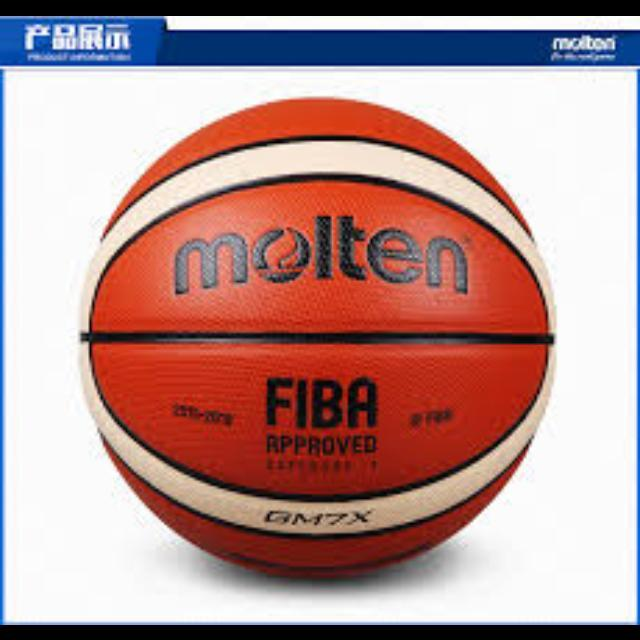basketball: (82, 98, 554, 574)
